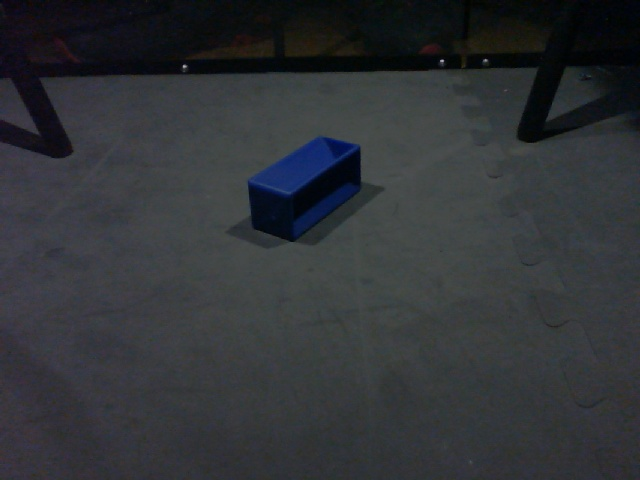BlueSample: (243, 133, 363, 242)
